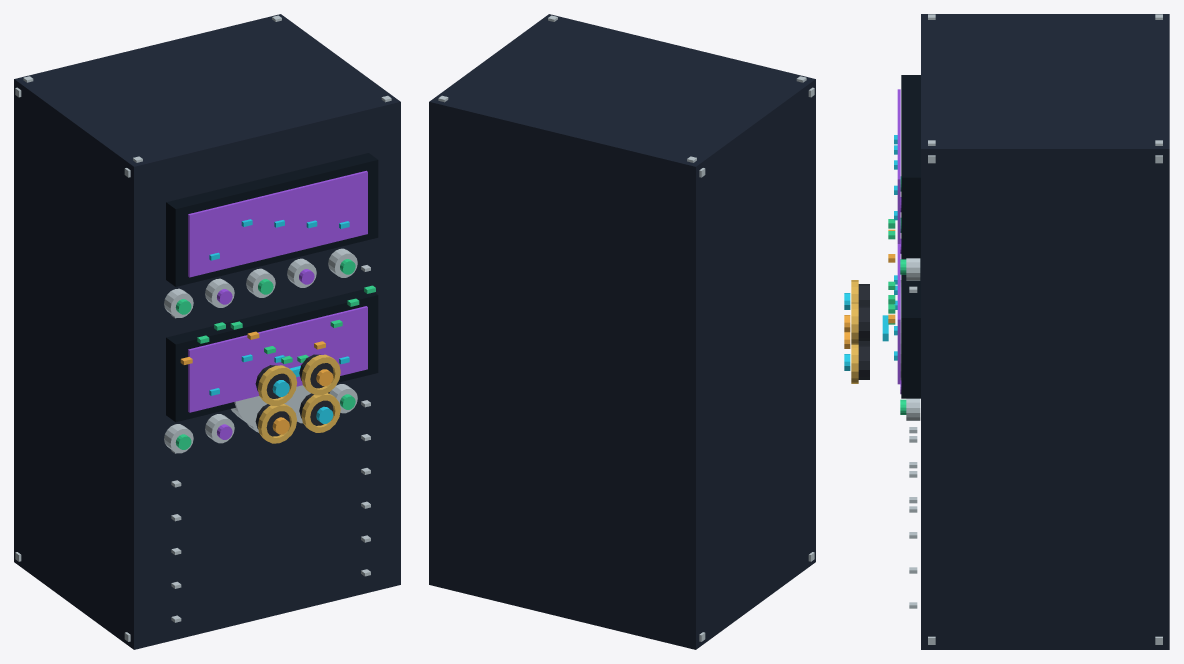
The model's file is 44_L82_ProgrammableRFSweepGenerator.fbx.
3 views of the same model, side by side, from view 1: azimuth 30°, elevation 25°; view 2: azimuth 150°, elevation 25°; view 3: azimuth 270°, elevation 25° (orthographic). The views are drawn at different scales.
Visible parts, largest first — view 1: ProgrammableRFSweepGenerator, ProgrammableRFSweepGenerator_Part_0081; view 2: ProgrammableRFSweepGenerator; view 3: ProgrammableRFSweepGenerator.
Boxes of the visible parts, x1,y1,x2,y2 form: ProgrammableRFSweepGenerator: (14, 14, 400, 649); ProgrammableRFSweepGenerator_Part_0081: (231, 385, 310, 428); ProgrammableRFSweepGenerator: (429, 14, 815, 649); ProgrammableRFSweepGenerator: (844, 14, 1169, 649).
Bounding box in the file's own units: 106 × 182 × 106.
